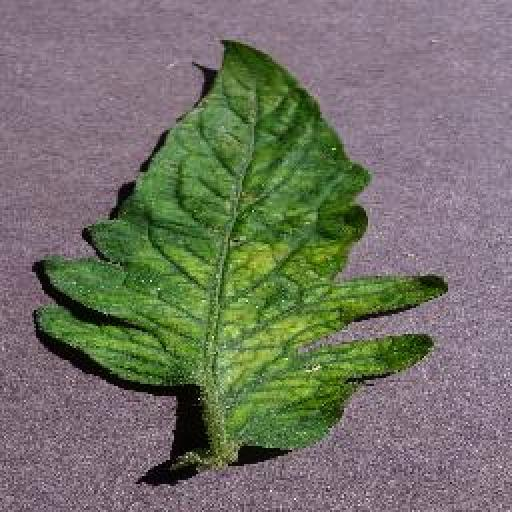Mosaic Virus: (36, 30, 452, 452)
